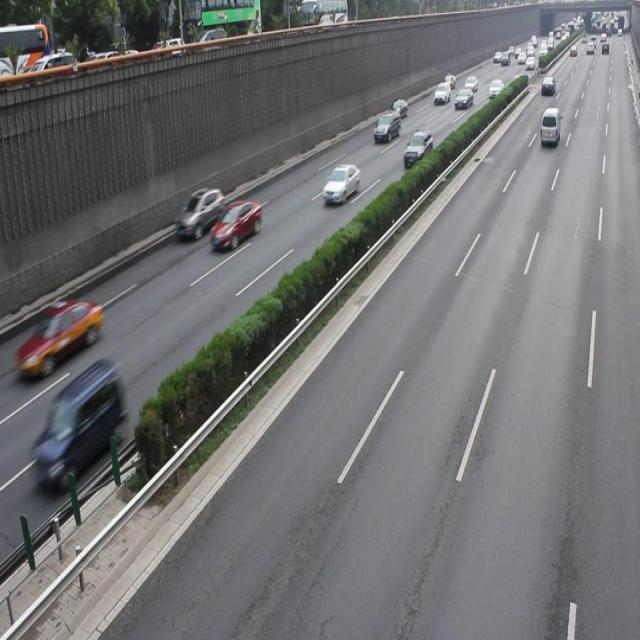car: (17, 294, 104, 378), (176, 186, 226, 241), (211, 198, 262, 248), (321, 163, 359, 202), (402, 129, 433, 171)
truck: (36, 358, 125, 491)
